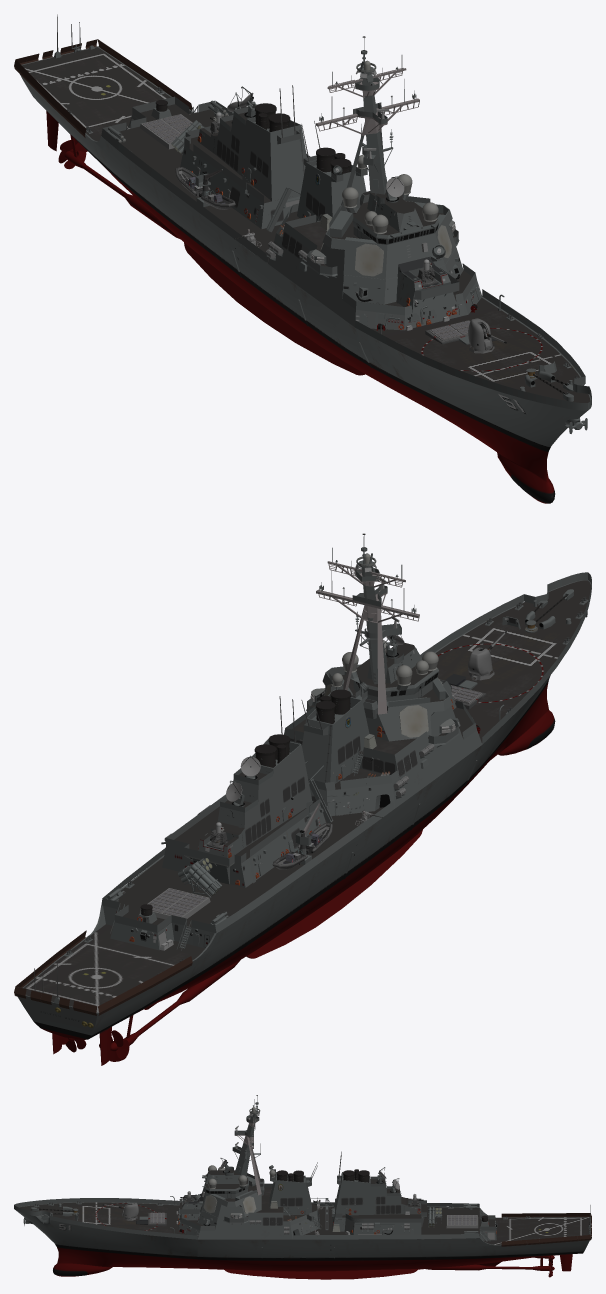
File: armyboat.fbx
The picture shows the model from 3 angles, top to bottom: view 1: azimuth 30°, elevation 25°; view 2: azimuth 150°, elevation 25°; view 3: azimuth 270°, elevation 25°; orthographic projection. The views are drawn at different scales.
Visible parts, largest first — view 1: DDG51, RHIB_final, SPG62_FINAL; view 2: DDG51, SPG62_FINAL, RHIB_final; view 3: DDG51, SPG62_FINAL.
Boxes of the visible parts, bbox=[...] form: DDG51: bbox=[14, 14, 591, 503]; RHIB_final: bbox=[175, 167, 235, 209]; SPG62_FINAL: bbox=[227, 86, 404, 202]; DDG51: bbox=[14, 533, 591, 1065]; SPG62_FINAL: bbox=[226, 635, 404, 806]; RHIB_final: bbox=[272, 822, 332, 869]; DDG51: bbox=[14, 1095, 591, 1279]; SPG62_FINAL: bbox=[220, 1158, 399, 1193].
Bounding box in the file's own units: 2473 × 5345 × 15377.
